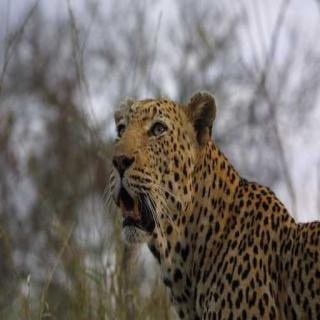Leopard: (67, 89, 320, 320)
